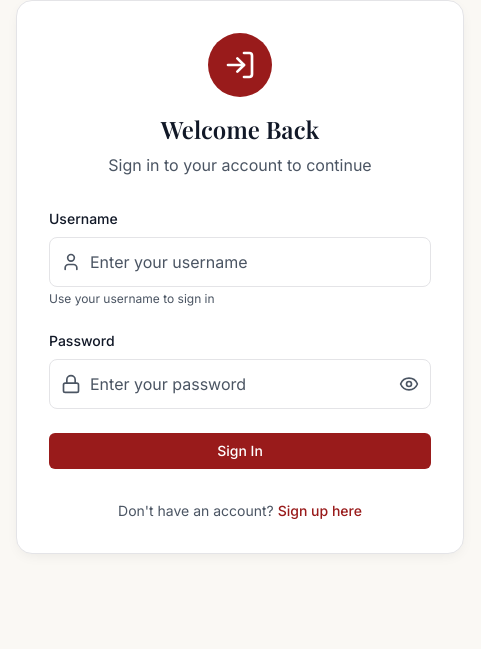
Test case: LoginForm › shows error when username is too short
Type "ab" into the field with placeholder "Enter your username" at (240, 262), box [49,237,431,287]
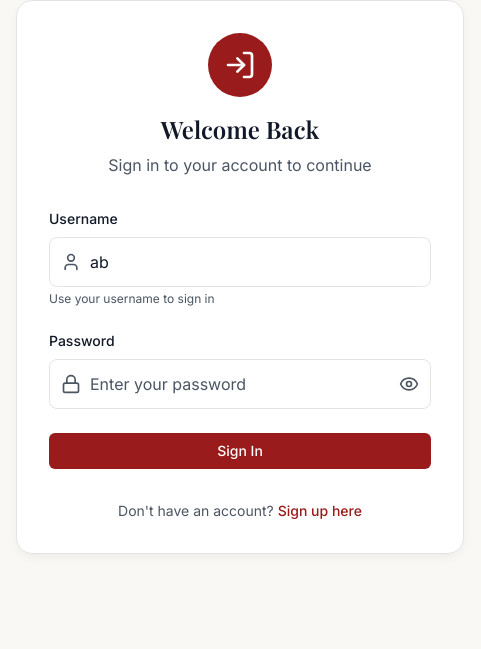
Type "password123" into the password field with placeholder "Enter your password" at (240, 384), box [49,359,431,409]
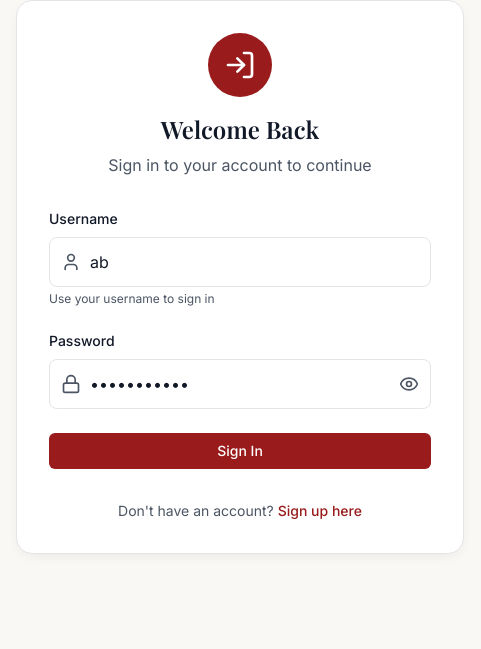
Click the button "Sign In" at (240, 451), box [49,433,431,469]
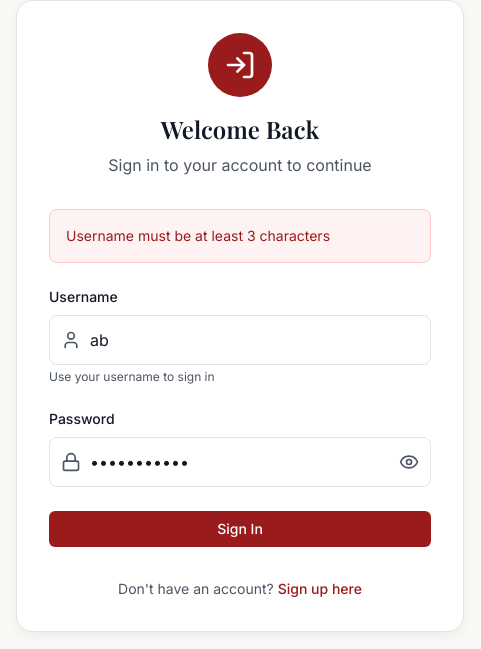
Now the text "Username must be at least 3 characters" is shown, box [66,227,330,244]
